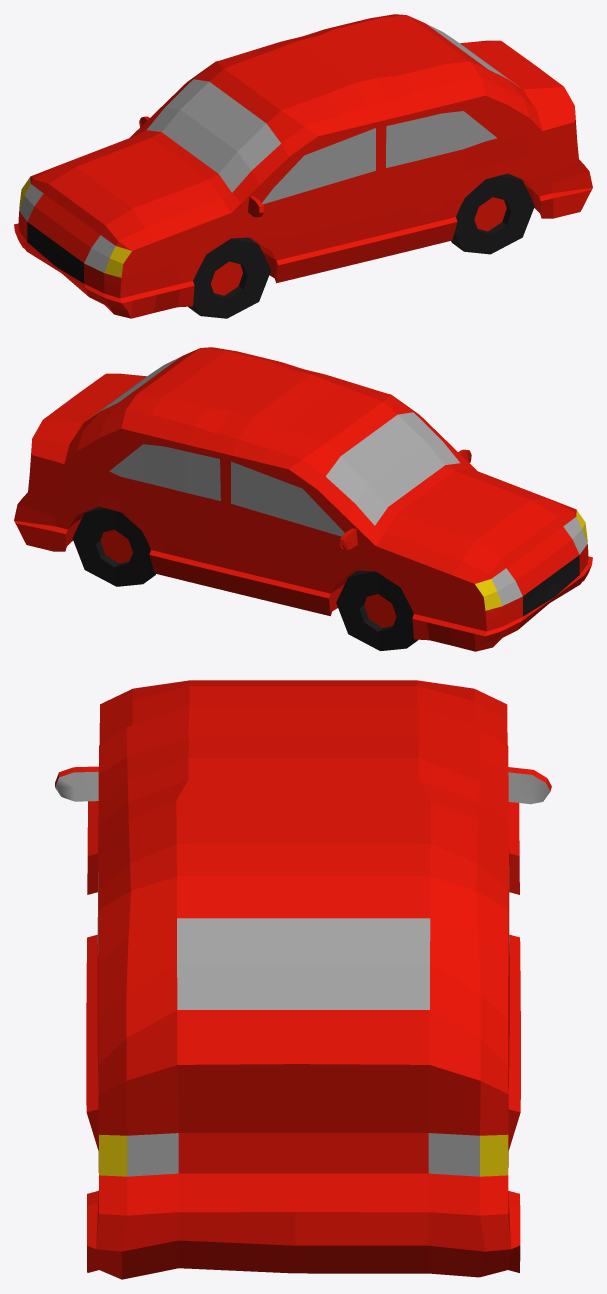
The model's file is car_RED.fbx.
3 renders of one model, top to bottom at view 1: azimuth 30°, elevation 25°; view 2: azimuth 150°, elevation 25°; view 3: azimuth 270°, elevation 25°, orthographic. The views are drawn at different scales.
Parts seen in each view (by area): view 1: CAR; view 2: CAR; view 3: CAR.
Boxes of the visible parts, x1=… form: CAR: x1=14, y1=14, x2=592, y2=318; CAR: x1=14, y1=347, x2=592, y2=651; CAR: x1=55, y1=680, x2=551, y2=1279.
Size of the model in its own units: 2257 by 828 by 995.
